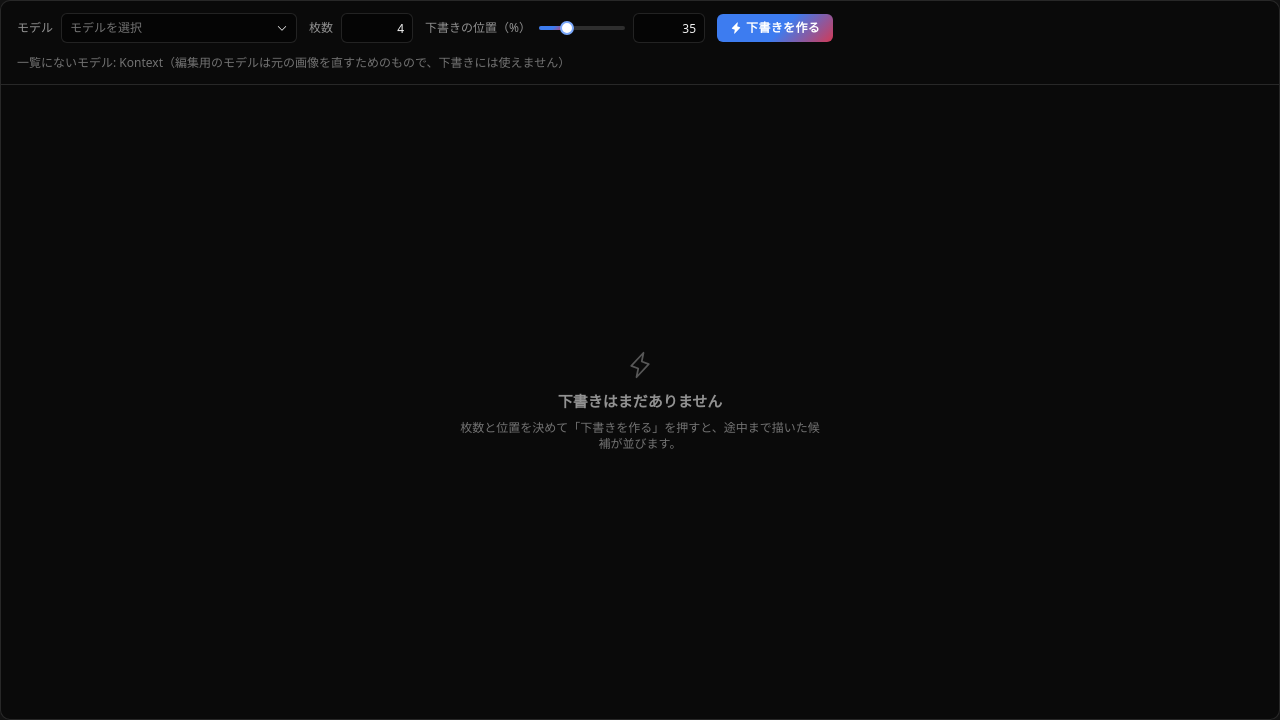
model of the drafts › offers the diffusion models of the newer families, and names the edit models it leaves out
Click the button with test id "drafts-model": (179, 28) [61, 13, 297, 43]
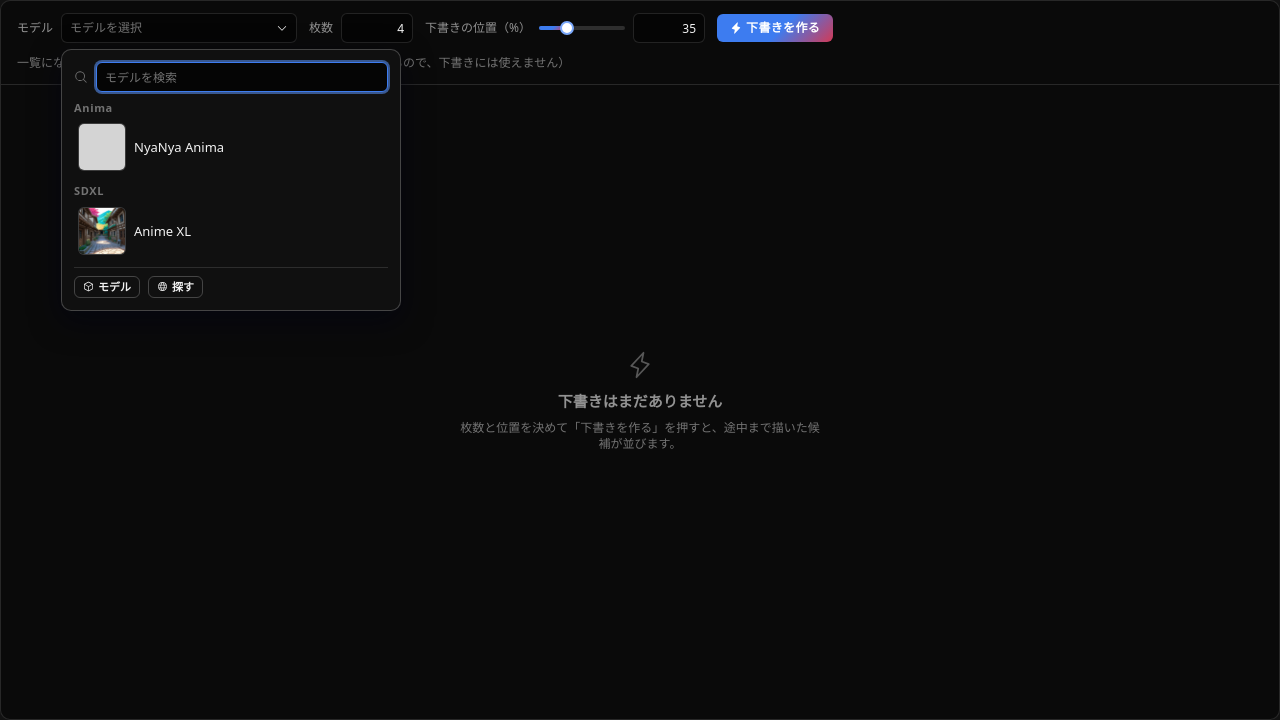
Result: the text "NyaNya Anima" is shown at [134, 138, 224, 156]
Result: the text "Anime XL" is shown at [134, 222, 191, 240]
